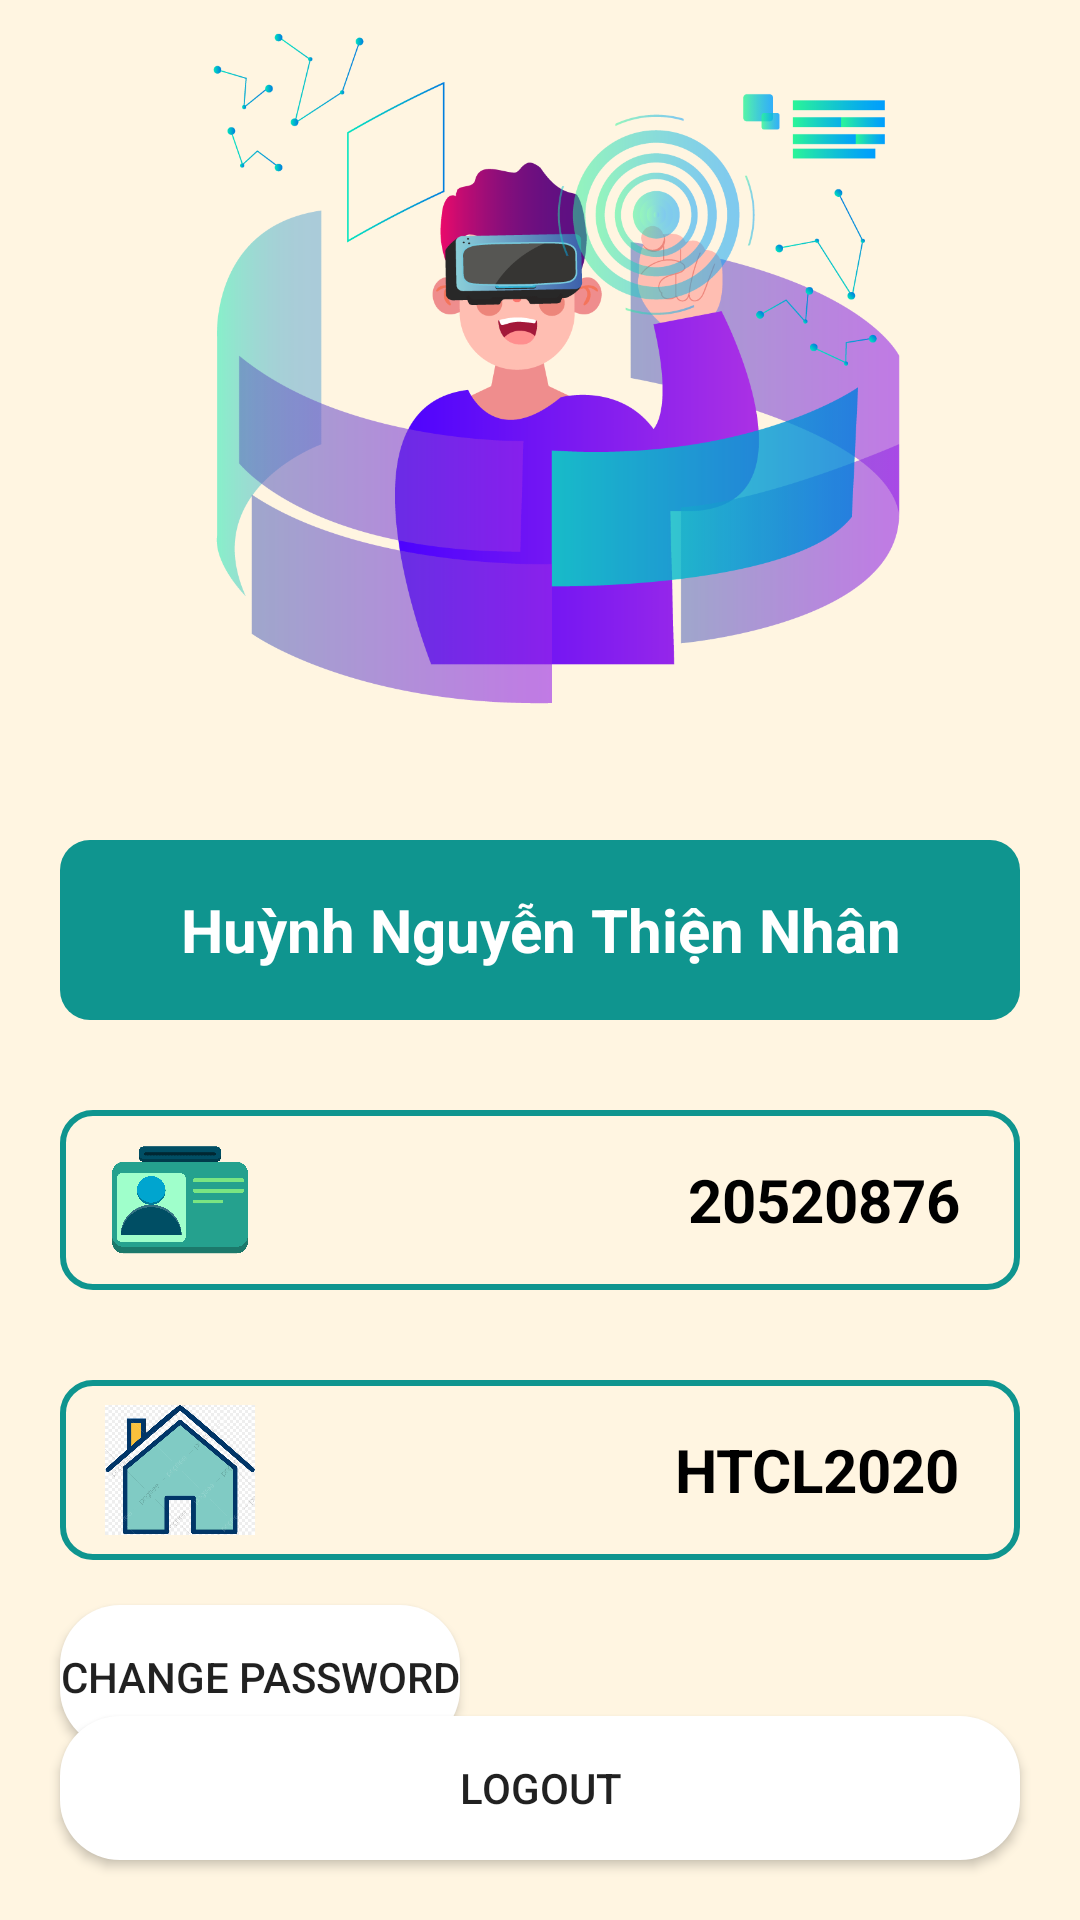

Screen size 1080x1920. Icon name, then its box in pixels as (x1, y1, x2, y2):
idcard: (112, 1146, 248, 1254)
